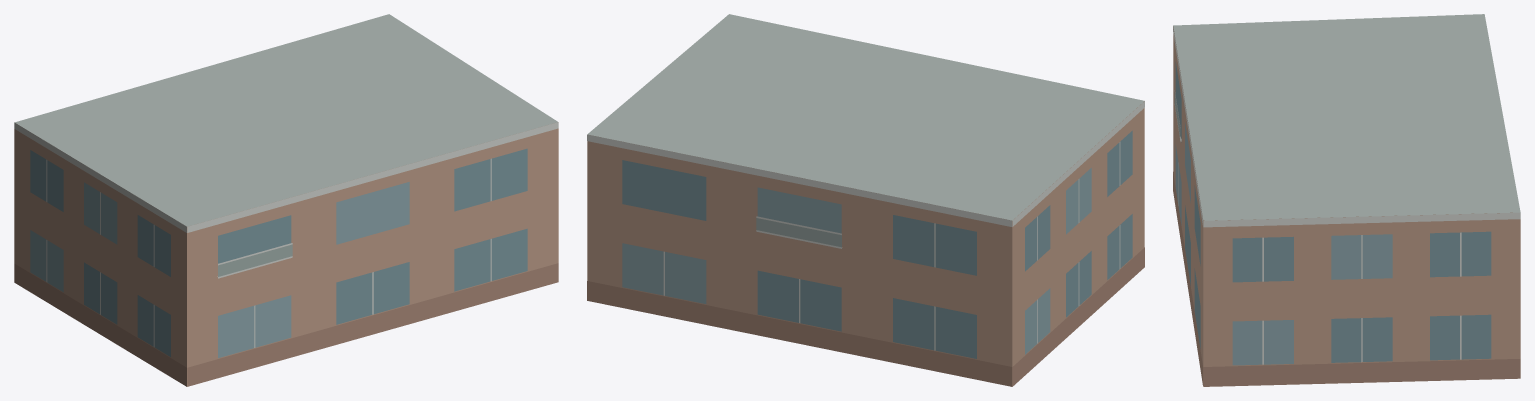
The model's file is survey-upis-32920981.glb.
3 views of the same model, side by side, from view 1: azimuth 30°, elevation 25°; view 2: azimuth 150°, elevation 25°; view 3: azimuth 270°, elevation 25° (orthographic). The views are drawn at different scales.
Parts seen in each view (by area): view 1: survey-upis-32920981.tmp; view 2: survey-upis-32920981.tmp; view 3: survey-upis-32920981.tmp.
Part boxes in pixels (x1,y1,x2,y2): survey-upis-32920981.tmp: [14, 14, 558, 386]; survey-upis-32920981.tmp: [587, 14, 1144, 386]; survey-upis-32920981.tmp: [1173, 14, 1520, 386].
Bounding box in the file's own units: 16.29 × 6.1 × 11.57.
